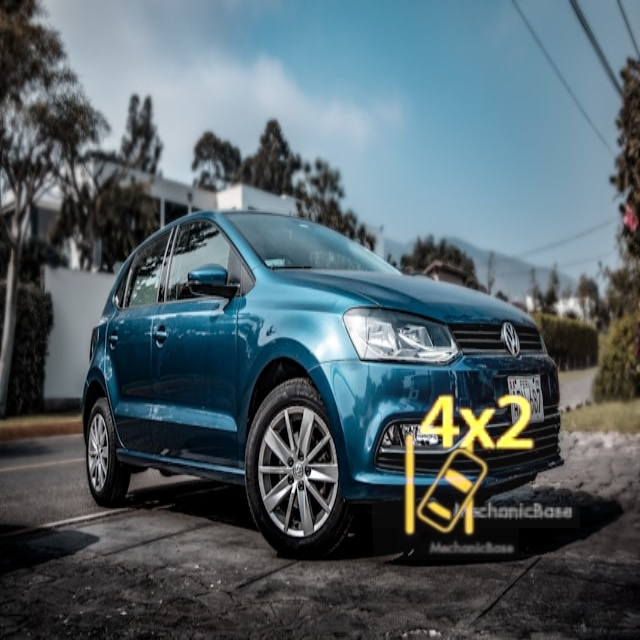symbol: (372, 320, 580, 528), (373, 414, 519, 560)
